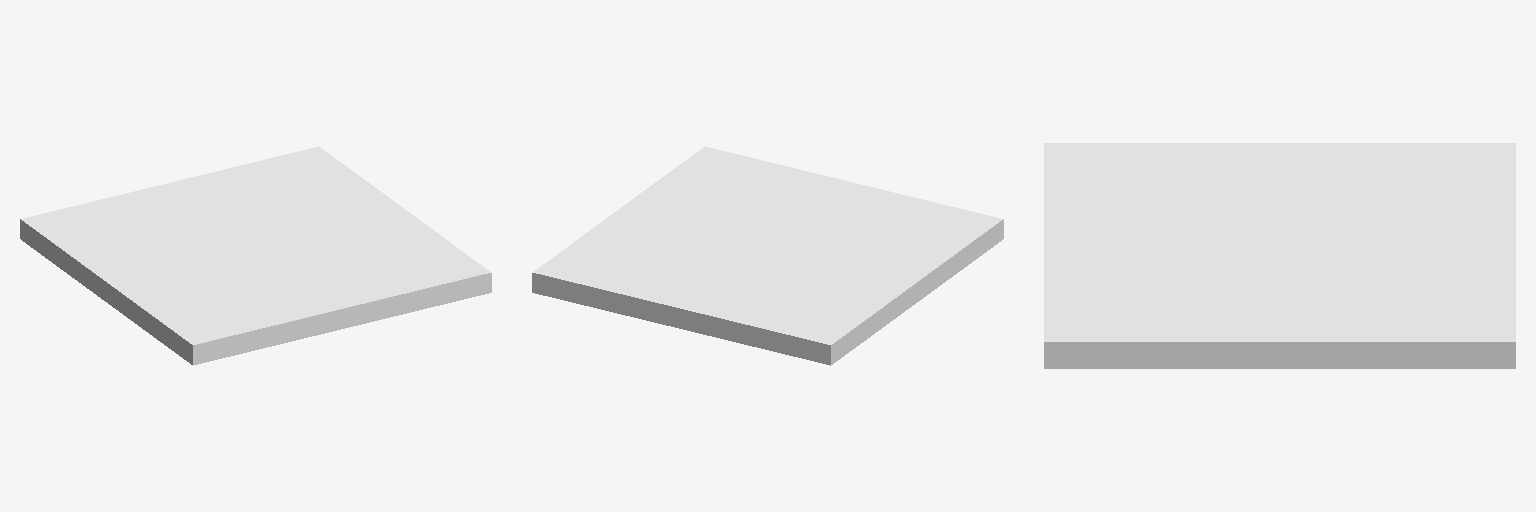
robot.urdf — mesh:
<?xml version="1.0" ?>
<robot name="mesh">
  <link name="baselink">
    <inertial>
      <origin rpy="0 0 0" xyz="0 0 0"/>
       <mass value=".0"/>
       <inertia ixx="0" ixy="0" ixz="0" iyy="0" iyz="0" izz="0"/>
    </inertial>
    <visual>
      <origin rpy="0 0 -1.5707963" xyz="0 0 0"/>
      <geometry>
      	<mesh filename="package://robots/meshes/visual/apriltag_id0_square.obj" scale="0.55 0.55 1"/>
      </geometry>
       <material name="white">
        <color rgba="1 1 1 1"/>
      </material>
    </visual>
    <collision concave="yes">
      <origin rpy="0 0 -1.5707963" xyz="0 0 0"/>
     <geometry>
	      <mesh filename="package://robots/meshes/visual/apriltag_id0_square.obj" scale="0.55 0.55 1"/>
      </geometry>
    </collision>
  </link>
</robot>
<!-- Physical size 0.1485m x 0.1485m -->

--- What the picture shows (computed from the rendered views, not written in the file) ---
The picture shows the robot from 3 angles, left to right: view 1: azimuth 30°, elevation 25°; view 2: azimuth 150°, elevation 25°; view 3: azimuth 270°, elevation 25°; orthographic projection.
Robot: mesh — 1 links, 0 joints (none); root link baselink; default pose: all joints at 0.
Visible links, largest first — view 1: baselink; view 2: baselink; view 3: baselink.
Link boxes in pixels (<box>): baselink: <box>20,146,491,365</box>; baselink: <box>532,146,1003,365</box>; baselink: <box>1044,143,1515,368</box>.
Size in the robot's own frame: 0.154 by 0.154 by 0.01 metres.
Meshes: 1 distinct files referenced, 1 mesh visuals loaded (1 OBJ).
